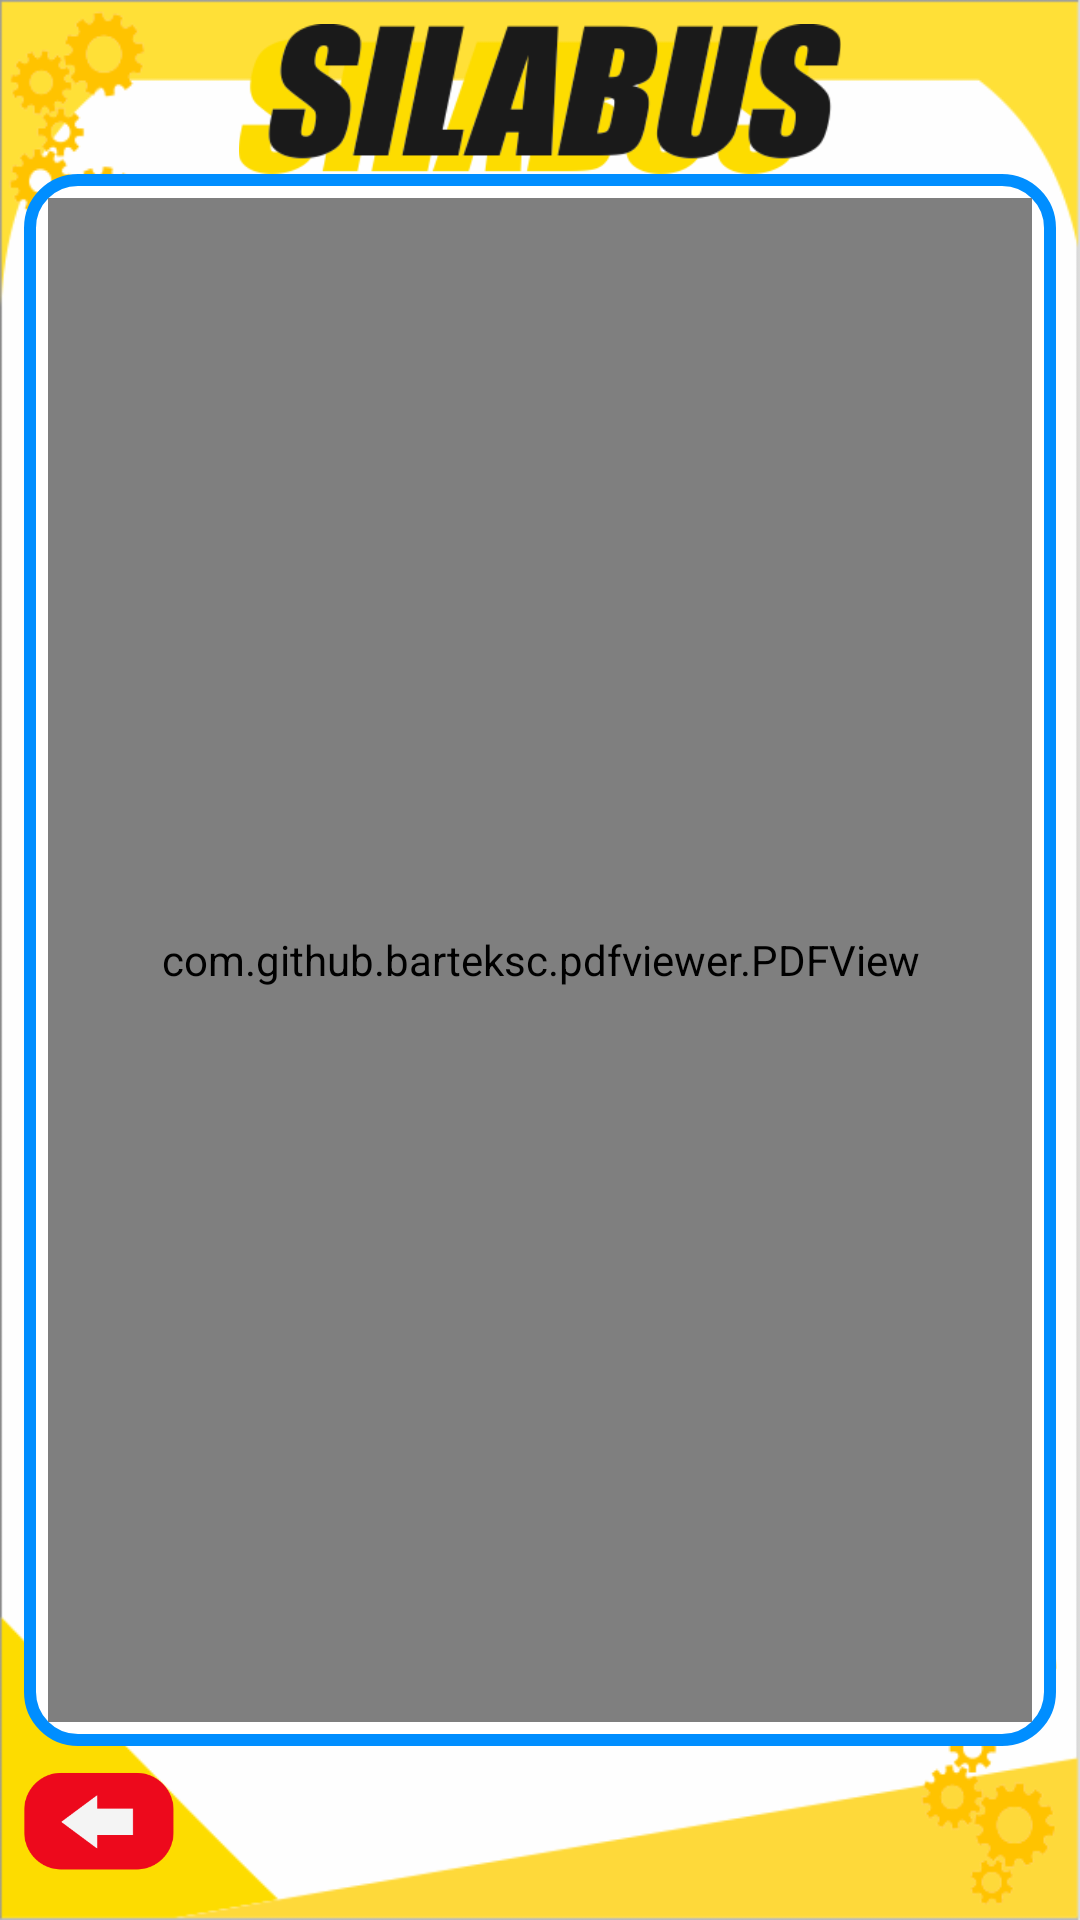

Icons on this 1080 x 1920 Android screen, each with the point to tap as (x,y):
back: (99,1808)
